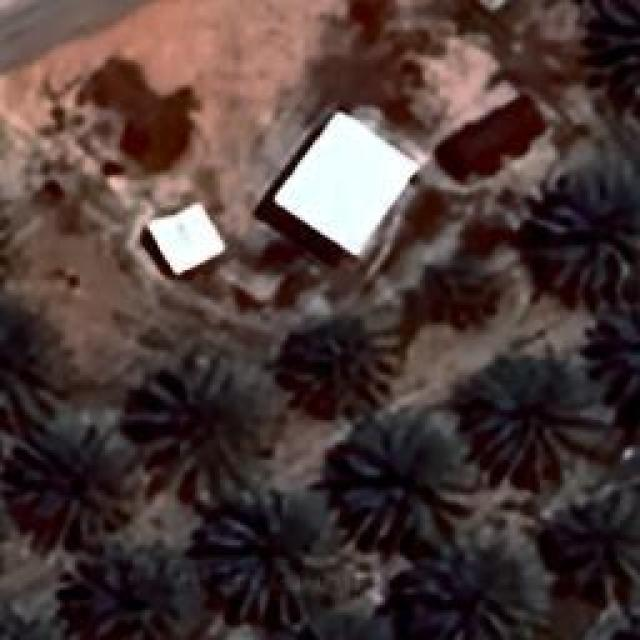PalmTree: (63, 70, 622, 352), (37, 120, 476, 301), (130, 354, 270, 508), (210, 488, 358, 622), (460, 358, 610, 480), (337, 418, 475, 548), (18, 410, 140, 540), (70, 537, 205, 640), (418, 534, 550, 638), (284, 310, 408, 415), (534, 170, 638, 292), (560, 488, 638, 590), (0, 297, 62, 414), (590, 0, 640, 122), (277, 610, 399, 640), (0, 601, 73, 640)
